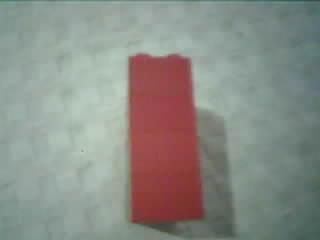lego: (124, 53, 206, 223)
